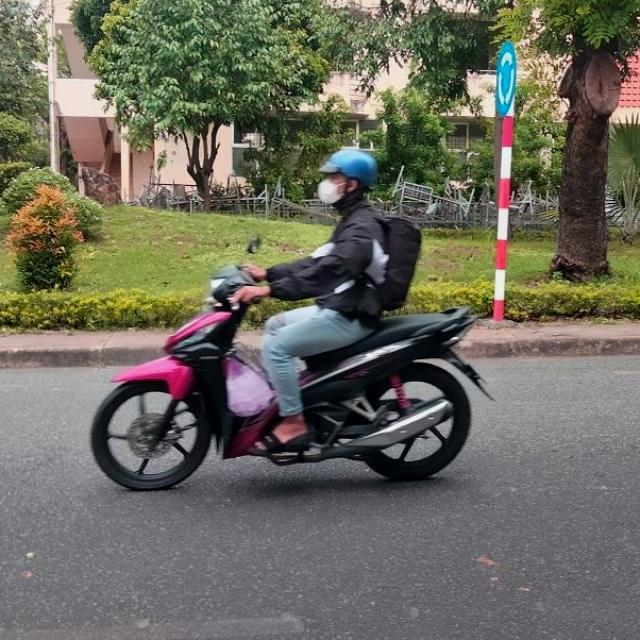Helmet: (316, 148, 378, 208)
